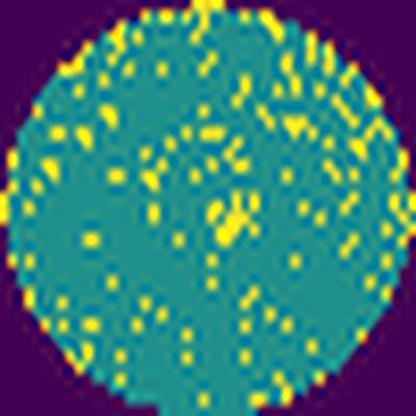Center: (202, 185, 268, 248)
